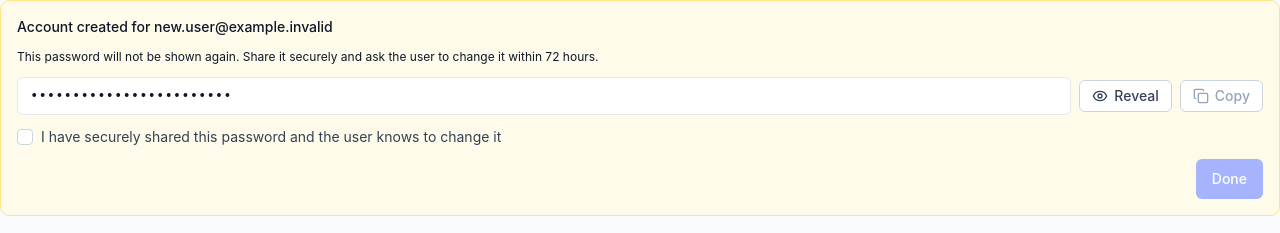
Test: T-046 TC-18: reveal › Hide re-masks the password on demand
The image size is (1280, 233).
Click the button "Reveal" at (1126, 96), box [1079,80,1172,112]
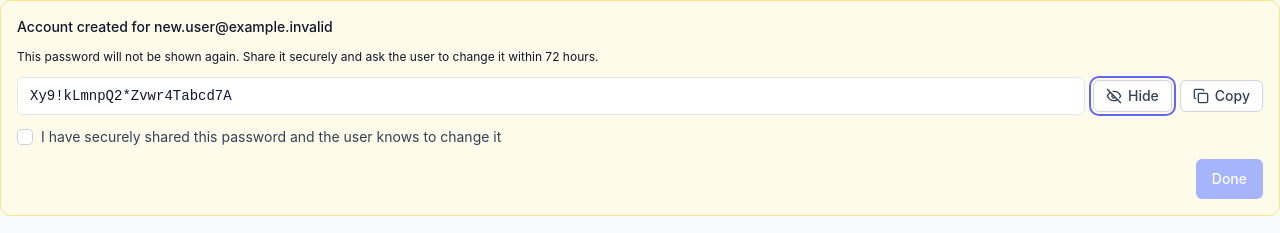
Now the text with test id "temporary-password-value" reads "Xy9!kLmnpQ2*Zvwr4Tabcd7A", box [30,88,232,104]
Click the button "Hide" at (1132, 96), box [1093,80,1172,112]
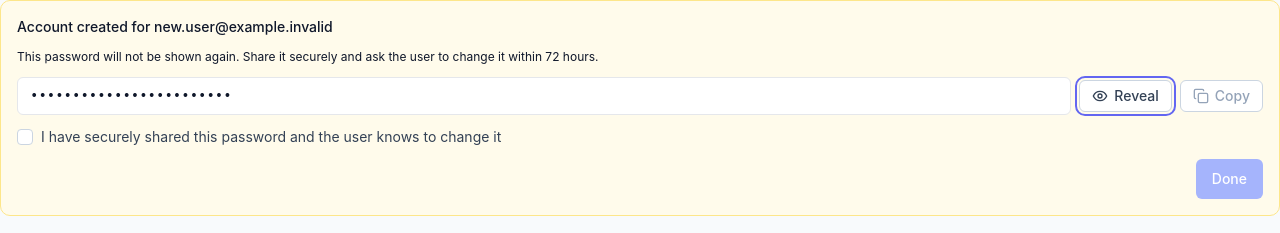
Now the text with test id "temporary-password-value" no longer shows "Xy9!kLmnpQ2*Zvwr4Tabcd7A", box [17,77,1071,115]
